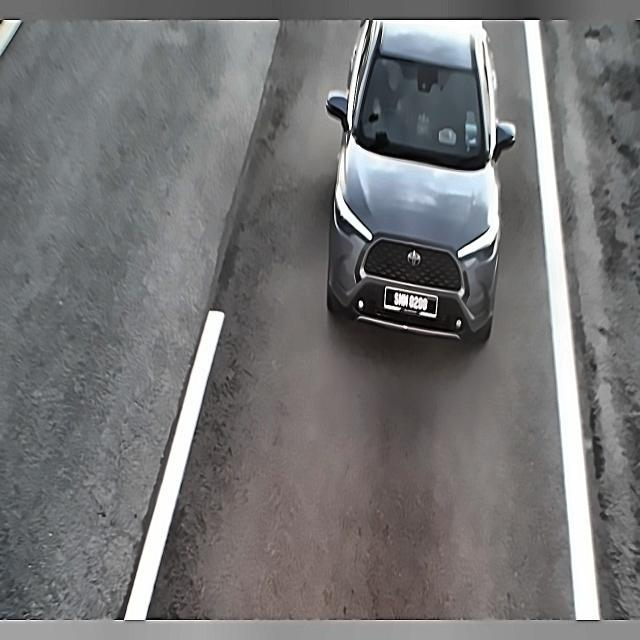car: (382, 275, 442, 326)
